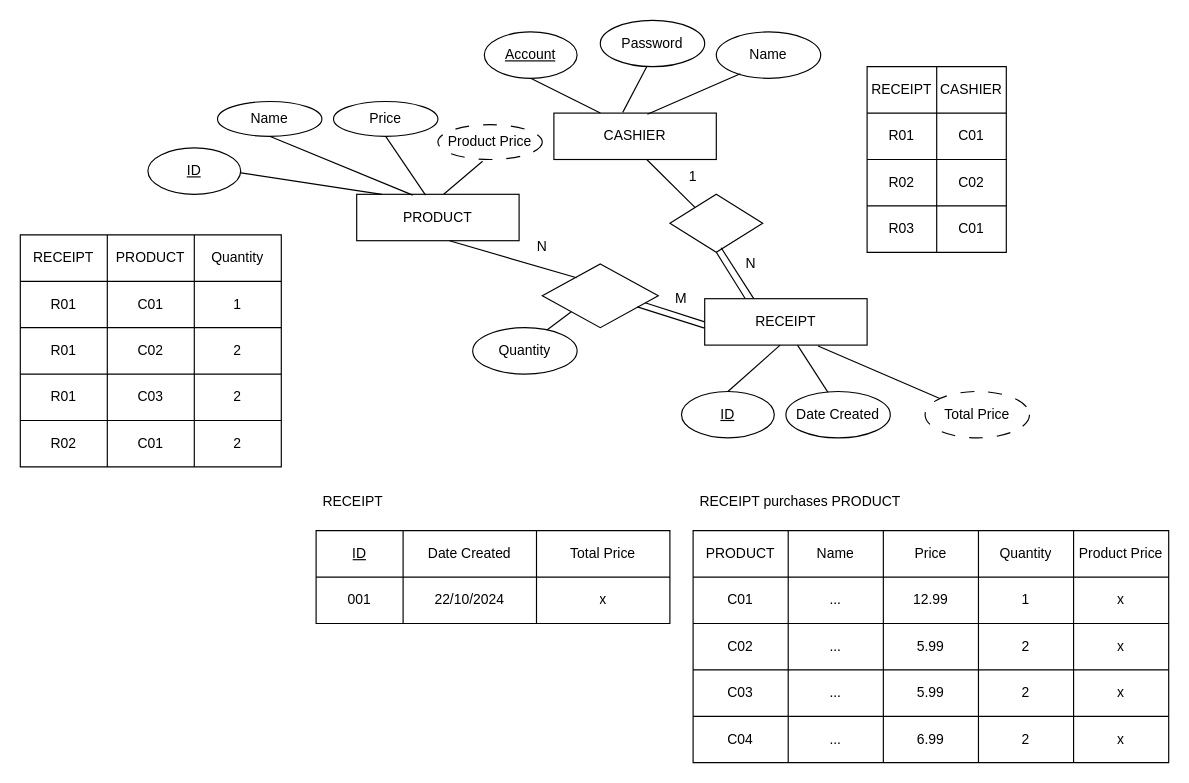
This 1189x783 diagram has some shape labels left out. Here are the shapes that lost their labels. From the top down, the box of each, then its label:
(669, 193, 763, 252): CREATES
(541, 263, 658, 328): PURCHASES
